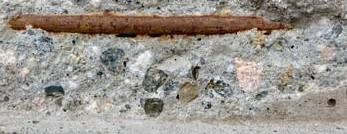Exposed reinforcement: (7, 14, 294, 37)
Spalling: (1, 1, 347, 134)
